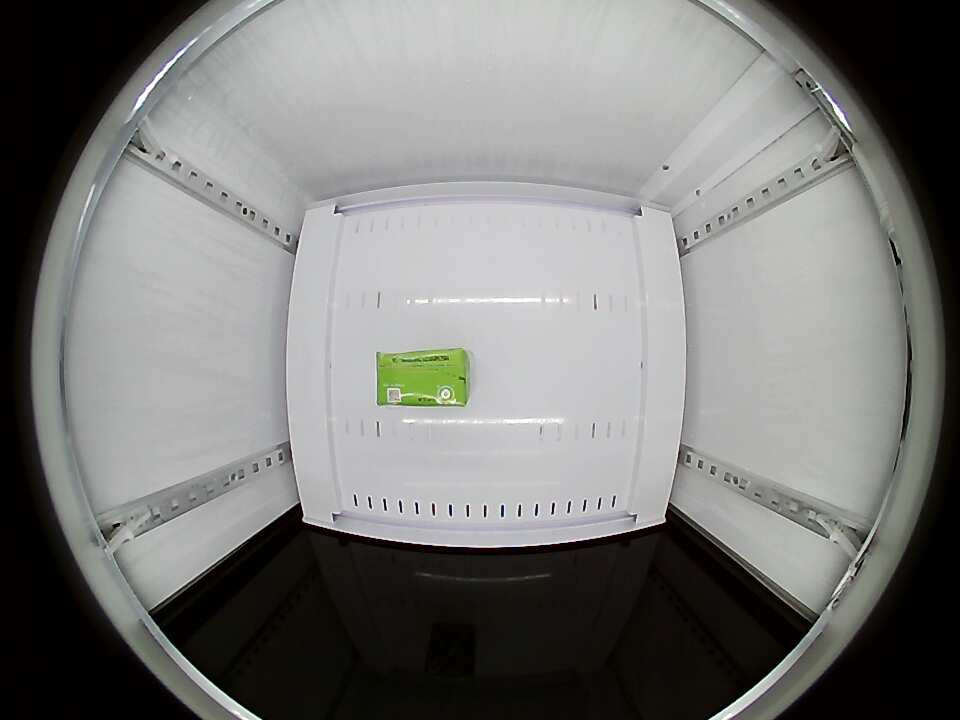mengniuzaocan: (376, 349, 470, 408)
